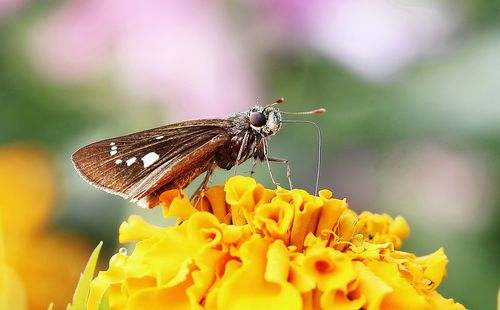Hesperiidae: (66, 93, 332, 210)
